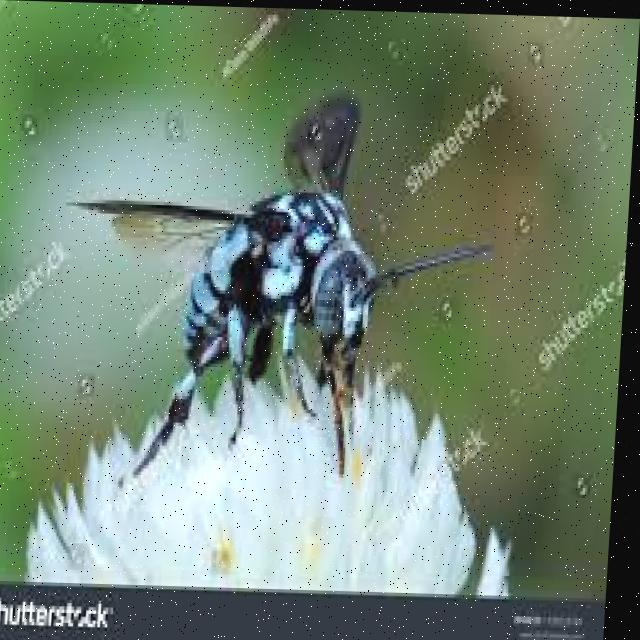Thyreus: (54, 73, 497, 500)
